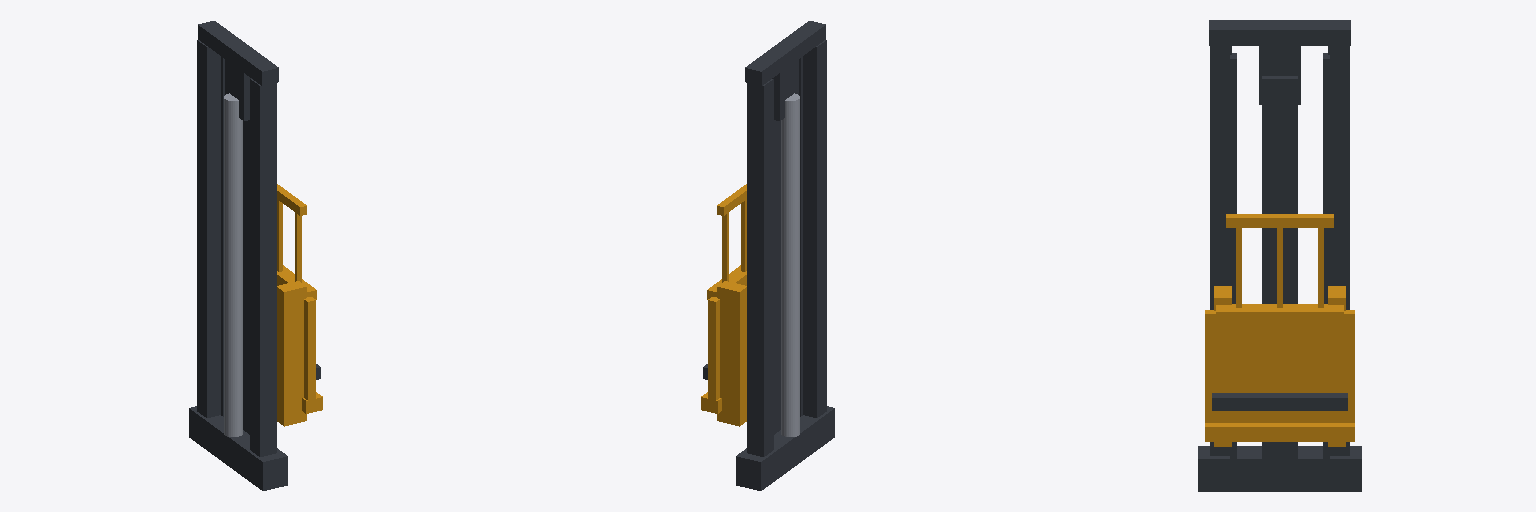
The robot description file, URDF, robot "mast_mounted_fork_carriage":
<robot name="mast_mounted_fork_carriage">
  <material name="mast_steel">
    <color rgba="0.27 0.29 0.32 1" />
    </material>
  <material name="ram_steel">
    <color rgba="0.63 0.65 0.69 1" />
    </material>
  <material name="carriage_paint">
    <color rgba="0.86 0.61 0.14 1" />
    </material>
  <material name="fork_steel">
    <color rgba="0.18 0.18 0.2 1" />
    </material>
  <material name="roller_rubber">
    <color rgba="0.1 0.1 0.1 1" />
    </material>
  <link name="mast">
    <inertial>
      <origin xyz="0.01 0 0.71" rpy="0 0 0" />
      <mass value="92" />
      <inertia ixx="17.0813" ixy="0" ixz="0" iyy="15.5283" iyz="0" izz="1.69146" />
      </inertial>
    <visual>
      <origin xyz="-0.005 -0.165 0.72" rpy="0 0 0" />
      <geometry>
        <box size="0.06 0.06 1.3" />
        </geometry>
      <material name="mast_steel" />
      </visual>
    <visual>
      <origin xyz="0.035 -0.13035 0.72" rpy="0 0 0" />
      <geometry>
        <box size="0.04 0.018 1.24" />
        </geometry>
      <material name="mast_steel" />
      </visual>
    <visual>
      <origin xyz="-0.005 0.165 0.72" rpy="0 0 0" />
      <geometry>
        <box size="0.06 0.06 1.3" />
        </geometry>
      <material name="mast_steel" />
      </visual>
    <visual>
      <origin xyz="0.035 0.13035 0.72" rpy="0 0 0" />
      <geometry>
        <box size="0.04 0.018 1.24" />
        </geometry>
      <material name="mast_steel" />
      </visual>
    <visual>
      <origin xyz="0 0 0.05" rpy="0 0 0" />
      <geometry>
        <box size="0.09 0.46 0.1" />
        </geometry>
      <material name="mast_steel" />
      </visual>
    <visual>
      <origin xyz="0 0 1.395" rpy="0 0 0" />
      <geometry>
        <box size="0.06 0.4 0.05" />
        </geometry>
      <material name="mast_steel" />
      </visual>
    <visual>
      <origin xyz="0.0375 0 0.69" rpy="0 0 0" />
      <geometry>
        <box size="0.035 0.1 1.18" />
        </geometry>
      <material name="mast_steel" />
      </visual>
    <visual>
      <origin xyz="-0.018 0 0.675" rpy="0 0 0" />
      <geometry>
        <cylinder radius="0.03" length="1.15" />
        </geometry>
      <material name="ram_steel" />
      </visual>
    <visual>
      <origin xyz="0.01 0 1.28" rpy="0 0 0" />
      <geometry>
        <box size="0.05 0.12 0.18" />
        </geometry>
      <material name="mast_steel" />
      </visual>
    </link>
  <link name="carriage">
    <inertial>
      <origin xyz="0.065 0 0.131" rpy="0 0 0" />
      <mass value="34" />
      <inertia ixx="1.77168" ixy="0" ixz="0" iyy="1.31977" iyz="0" izz="0.547683" />
      </inertial>
    <visual>
      <origin xyz="0.04 0 0" rpy="0 0 0" />
      <geometry>
        <box size="0.08 0.12 0.18" />
        </geometry>
      <material name="mast_steel" />
      </visual>
    <visual>
      <origin xyz="0.04 -0.16 -0.01" rpy="0 0 0" />
      <geometry>
        <box size="0.08 0.05 0.46" />
        </geometry>
      <material name="carriage_paint" />
      </visual>
    <visual>
      <origin xyz="0.01 -0.16 -0.12" rpy="0 0 0" />
      <geometry>
        <box size="0.02 0.045 0.11" />
        </geometry>
      <material name="carriage_paint" />
      </visual>
    <visual>
      <origin xyz="0.03 -0.16 -0.12" rpy="1.5708 0 0" />
      <geometry>
        <cylinder radius="0.021" length="0.03" />
        </geometry>
      <material name="roller_rubber" />
      </visual>
    <visual>
      <origin xyz="0.01 -0.16 0.12" rpy="0 0 0" />
      <geometry>
        <box size="0.02 0.045 0.11" />
        </geometry>
      <material name="carriage_paint" />
      </visual>
    <visual>
      <origin xyz="0.03 -0.16 0.12" rpy="1.5708 0 0" />
      <geometry>
        <cylinder radius="0.021" length="0.03" />
        </geometry>
      <material name="roller_rubber" />
      </visual>
    <visual>
      <origin xyz="0.04 0.16 -0.01" rpy="0 0 0" />
      <geometry>
        <box size="0.08 0.05 0.46" />
        </geometry>
      <material name="carriage_paint" />
      </visual>
    <visual>
      <origin xyz="0.01 0.16 -0.12" rpy="0 0 0" />
      <geometry>
        <box size="0.02 0.045 0.11" />
        </geometry>
      <material name="carriage_paint" />
      </visual>
    <visual>
      <origin xyz="0.03 0.16 -0.12" rpy="1.5708 0 0" />
      <geometry>
        <cylinder radius="0.021" length="0.03" />
        </geometry>
      <material name="roller_rubber" />
      </visual>
    <visual>
      <origin xyz="0.01 0.16 0.12" rpy="0 0 0" />
      <geometry>
        <box size="0.02 0.045 0.11" />
        </geometry>
      <material name="carriage_paint" />
      </visual>
    <visual>
      <origin xyz="0.03 0.16 0.12" rpy="1.5708 0 0" />
      <geometry>
        <cylinder radius="0.021" length="0.03" />
        </geometry>
      <material name="roller_rubber" />
      </visual>
    <visual>
      <origin xyz="0.085 0 0" rpy="0 0 0" />
      <geometry>
        <box size="0.03 0.42 0.36" />
        </geometry>
      <material name="carriage_paint" />
      </visual>
    <visual>
      <origin xyz="0.095 0 0.18" rpy="0 0 0" />
      <geometry>
        <box size="0.05 0.36 0.035" />
        </geometry>
      <material name="carriage_paint" />
      </visual>
    <visual>
      <origin xyz="0.095 0 -0.18" rpy="0 0 0" />
      <geometry>
        <box size="0.06 0.42 0.045" />
        </geometry>
      <material name="carriage_paint" />
      </visual>
    <visual>
      <origin xyz="0.11 0 -0.085" rpy="0 0 0" />
      <geometry>
        <box size="0.04 0.38 0.04" />
        </geometry>
      <material name="mast_steel" />
      </visual>
    <visual>
      <origin xyz="0.09 -0.115 0.322" rpy="0 0 0" />
      <geometry>
        <box size="0.016 0.016 0.25" />
        </geometry>
      <material name="carriage_paint" />
      </visual>
    <visual>
      <origin xyz="0.09 0 0.322" rpy="0 0 0" />
      <geometry>
        <box size="0.016 0.016 0.25" />
        </geometry>
      <material name="carriage_paint" />
      </visual>
    <visual>
      <origin xyz="0.09 0.115 0.322" rpy="0 0 0" />
      <geometry>
        <box size="0.016 0.016 0.25" />
        </geometry>
      <material name="carriage_paint" />
      </visual>
    <visual>
      <origin xyz="0.09 0 0.463" rpy="0 0 0" />
      <geometry>
        <box size="0.025 0.3 0.03" />
        </geometry>
      <material name="carriage_paint" />
      </visual>
    </link>
  <link name="fork_frame">
    <inertial>
      <origin xyz="0.32 0 -0.019" rpy="0 0 0" />
      <mass value="22" />
      <inertia ixx="0.315781" ixy="0" ixz="0" iyy="0.902447" iyz="0" izz="1.01053" />
      </inertial>
    <visual>
      <geometry>
        <mesh filename="assets/meshes/fork_frame.obj" />
        </geometry>
      <material name="fork_steel" />
      </visual>
    </link>
  <joint name="mast_to_carriage" type="prismatic">
    <origin xyz="0.057 0 0.42" rpy="0 0 0" />
    <parent link="mast" />
    <child link="carriage" />
    <axis xyz="0 0 1" />
    <limit effort="4500" velocity="0.35" lower="0" upper="0.48" />
    </joint>
  <joint name="carriage_to_fork_frame" type="fixed">
    <origin xyz="0.128 0 -0.085" rpy="0 0 0" />
    <parent link="carriage" />
    <child link="fork_frame" />
    </joint>
  </robot>

--- What the picture shows (computed from the rendered views, not written in the file) ---
3 views of the same robot in one strip: view 1: azimuth 30°, elevation 25°; view 2: azimuth 150°, elevation 25°; view 3: azimuth 270°, elevation 25° (orthographic).
Robot: mast_mounted_fork_carriage — 3 links, 2 joints (1 prismatic, 1 fixed); root link mast; default pose: all joints at 0.
Links seen in each view (by area): view 1: mast, carriage; view 2: mast, carriage; view 3: mast, carriage.
Boxes of the visible links, x1,y1,x2,y2 form: mast: [189, 21, 287, 490]; carriage: [277, 184, 322, 426]; mast: [736, 21, 834, 490]; carriage: [701, 184, 746, 426]; mast: [1198, 20, 1361, 491]; carriage: [1205, 214, 1354, 446].
Bounding box of the posed robot: 0.235 × 0.46 × 1.42 m (x, y, z).
0 mesh visuals loaded from 1 distinct referenced files (none loaded); not drawn: 1 (reference not matched to a file when rendering).
